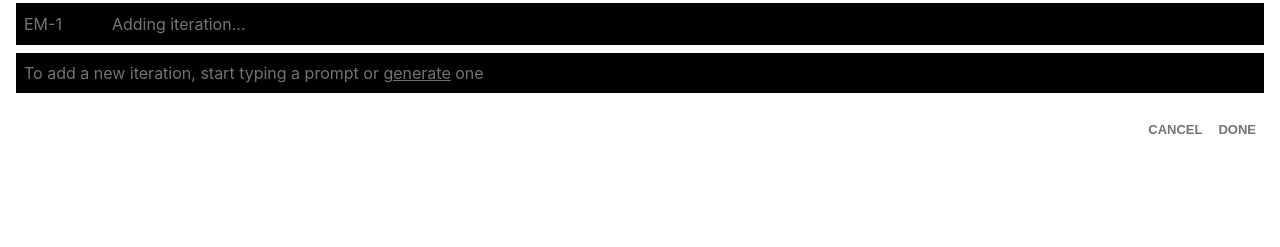
Test case: AddIteration Component › Generate link click effect
The width and height of the screenshot is (1280, 247).
Click the button "generate" at coordinates (417, 73), box [383,63,451,83]
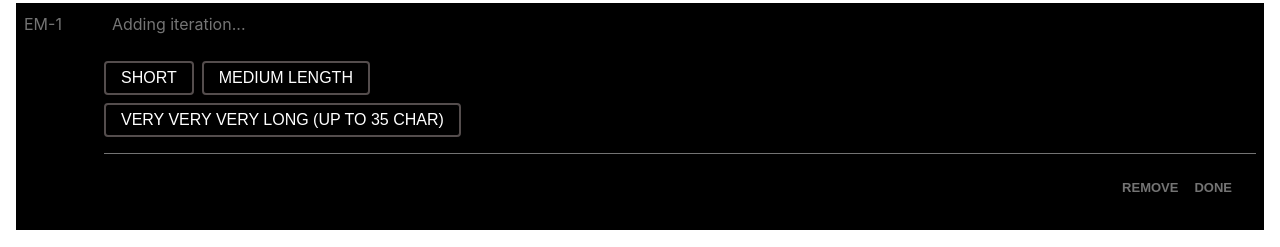
Now the button "SHORT" is shown, box [104,61,194,95]
Now the button "MEDIUM LENGTH" is shown, box [202,61,370,95]
Now the button "REMOVE" is shown, box [1122,178,1178,198]
